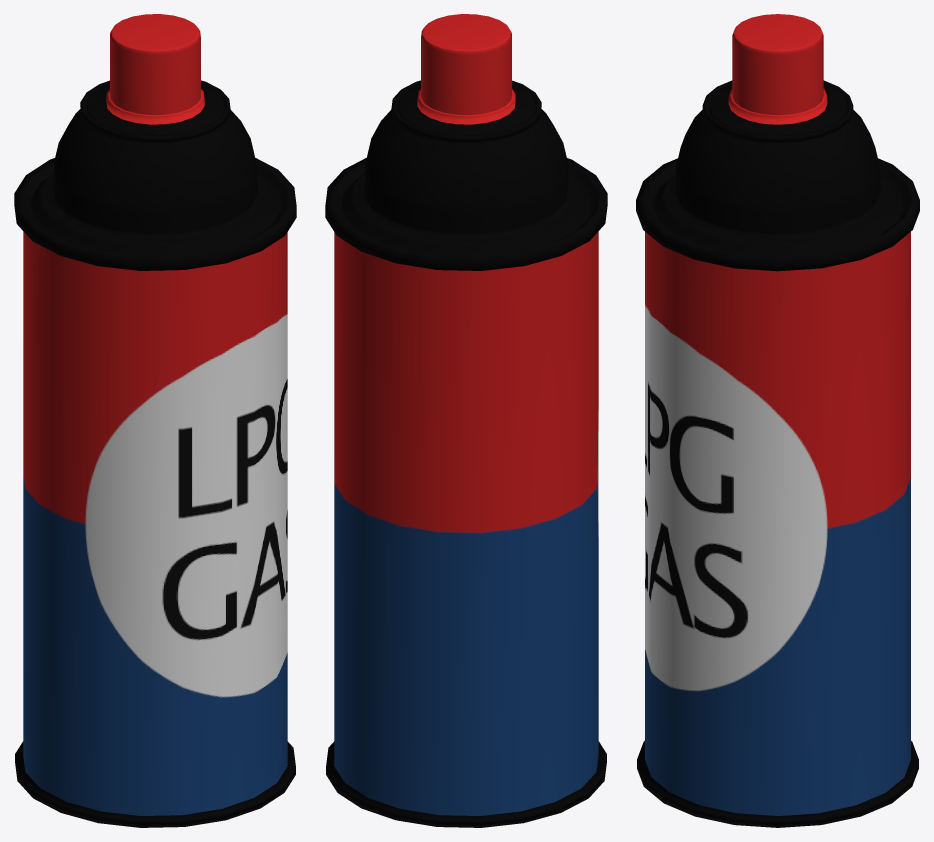
Rendered from Gas.fbx.
3 views of the same model, side by side, from view 1: azimuth 30°, elevation 25°; view 2: azimuth 150°, elevation 25°; view 3: azimuth 270°, elevation 25° (orthographic).
Parts seen in each view (by area): view 1: pCylinder1; view 2: pCylinder1; view 3: pCylinder1.
Boxes of the visible parts, box(x1,y1,x2,y2) form: pCylinder1: box(14, 14, 296, 827); pCylinder1: box(325, 14, 607, 827); pCylinder1: box(636, 14, 919, 827).
Size of the model in its own units: 0.00387 by 0.0111 by 0.00387.
2 materials, 1 textured.
